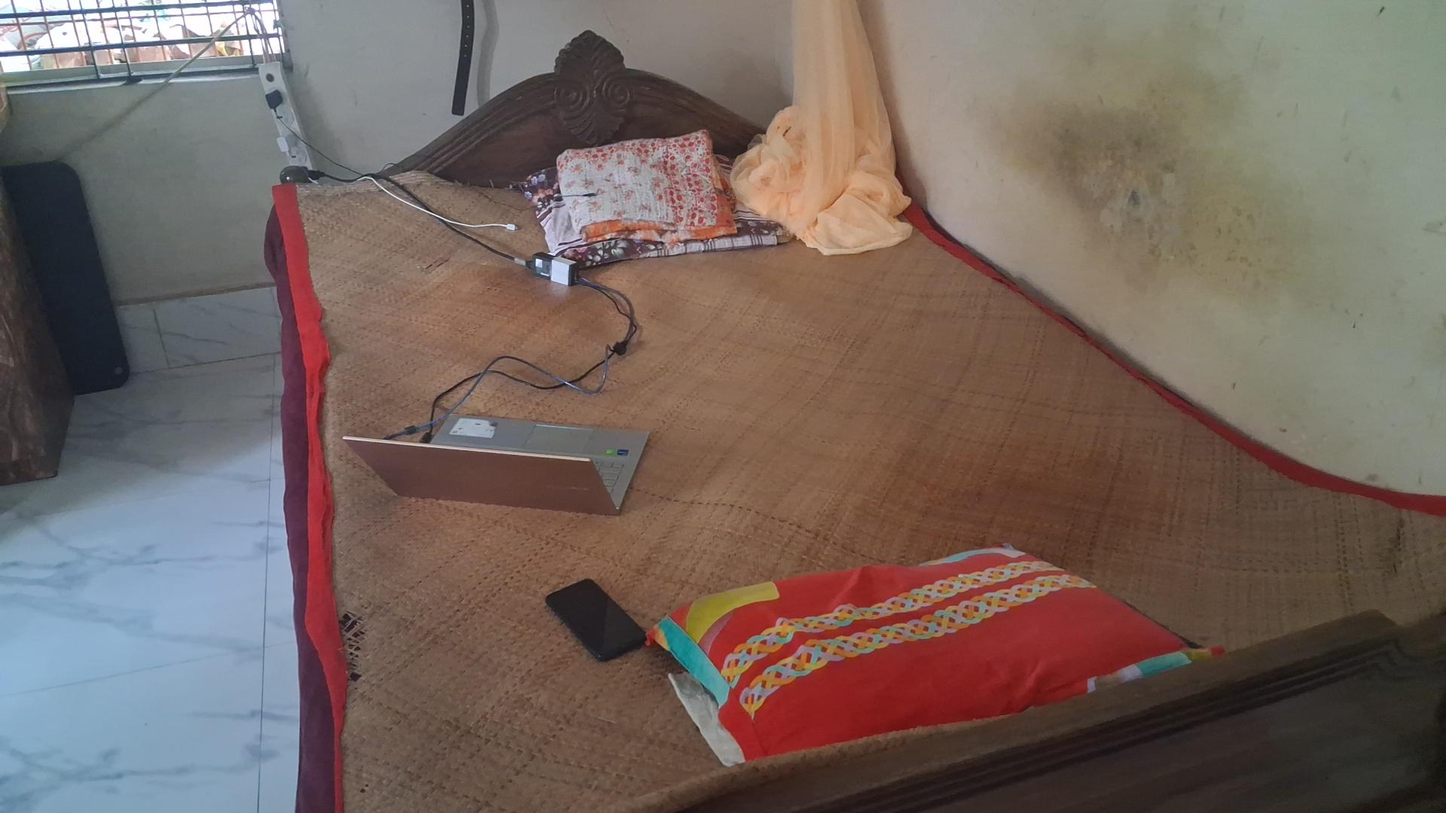Blanket: (558, 130, 740, 241)
Laptop: (339, 403, 652, 509)
Phone: (545, 577, 643, 664)
Pillow: (644, 549, 1203, 772)
